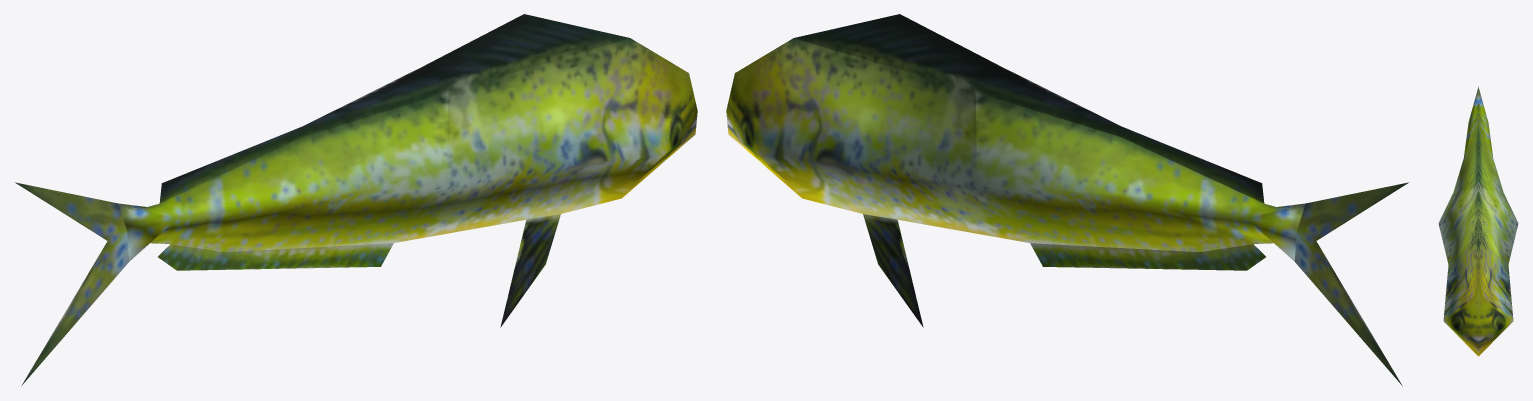
Rendered from dolphinfish.obj.
The picture shows the model from 3 angles, left to right: view 1: azimuth 30°, elevation 25°; view 2: azimuth 150°, elevation 25°; view 3: azimuth 270°, elevation 25°; orthographic projection. The views are drawn at different scales.
Size of the model in its own units: 3.01 by 1.3 by 0.4107.
Materials: 1 (1 with a texture image).
